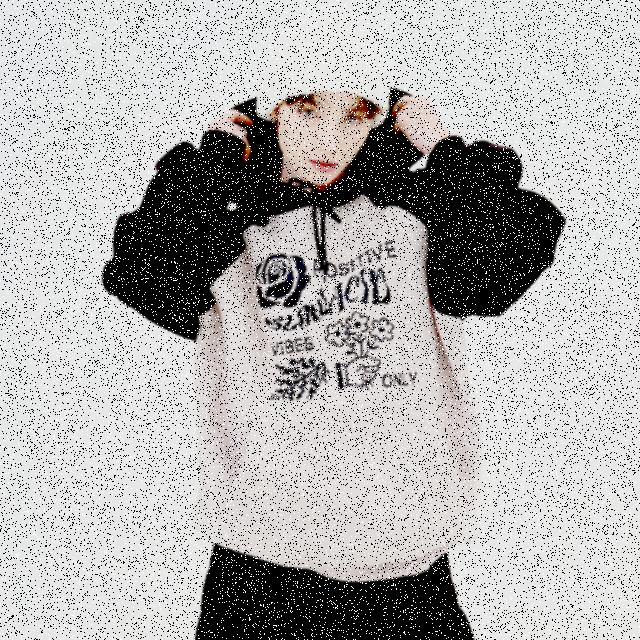dress: (103, 40, 583, 588)
